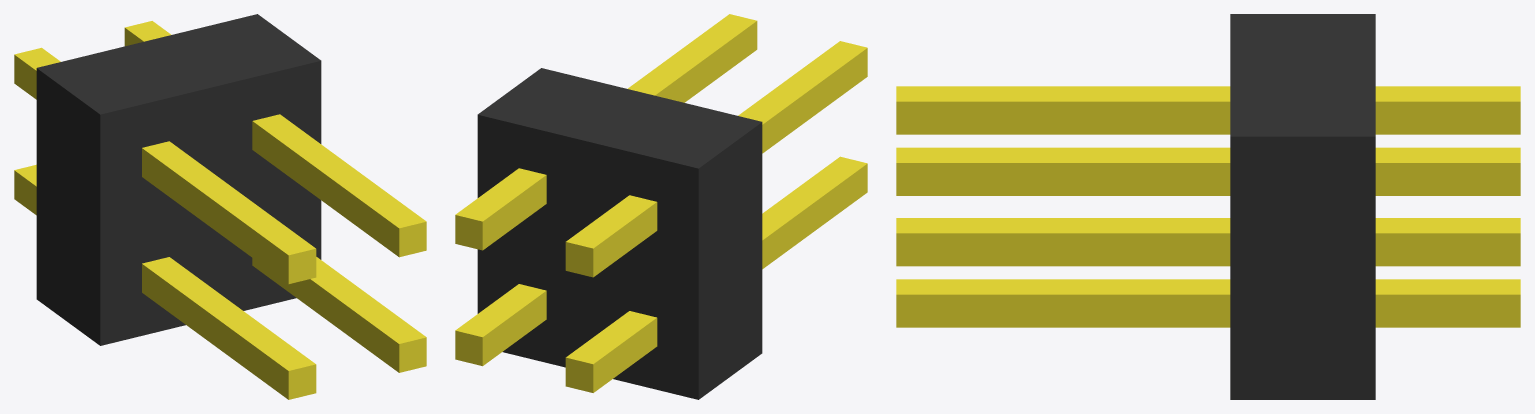
3 views of the same model, side by side, from view 1: azimuth 30°, elevation 25°; view 2: azimuth 150°, elevation 25°; view 3: azimuth 270°, elevation 25° (orthographic). The views are drawn at different scales.
Parts seen in each view (by area): view 1: SamtecTSWbody (×4), SamtecTSWpin (×4); view 2: SamtecTSWbody (×4), SamtecTSWpin (×4); view 3: SamtecTSWpin (×4), SamtecTSWbody (×3).
Part boxes in pixels (left/top/right/bottom): SamtecTSWbody (×4): left=36, top=14, right=321, bottom=345; SamtecTSWpin (×4): left=14, top=21, right=426, bottom=399; SamtecTSWbody (×4): left=477, top=68, right=762, bottom=399; SamtecTSWpin (×4): left=455, top=14, right=867, bottom=392; SamtecTSWpin (×4): left=896, top=86, right=1520, bottom=327; SamtecTSWbody (×3): left=1230, top=14, right=1375, bottom=399.
Bounding box in the file's own units: 5.08 × 5.08 × 10.92.
